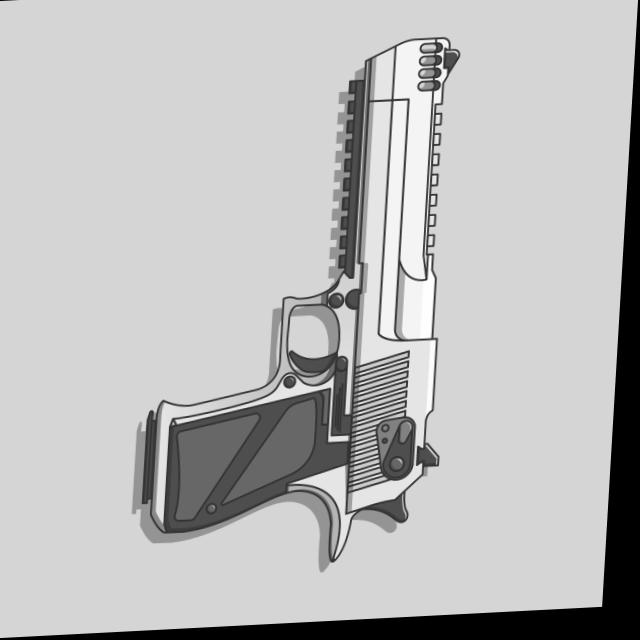handgun: (133, 35, 462, 589)
